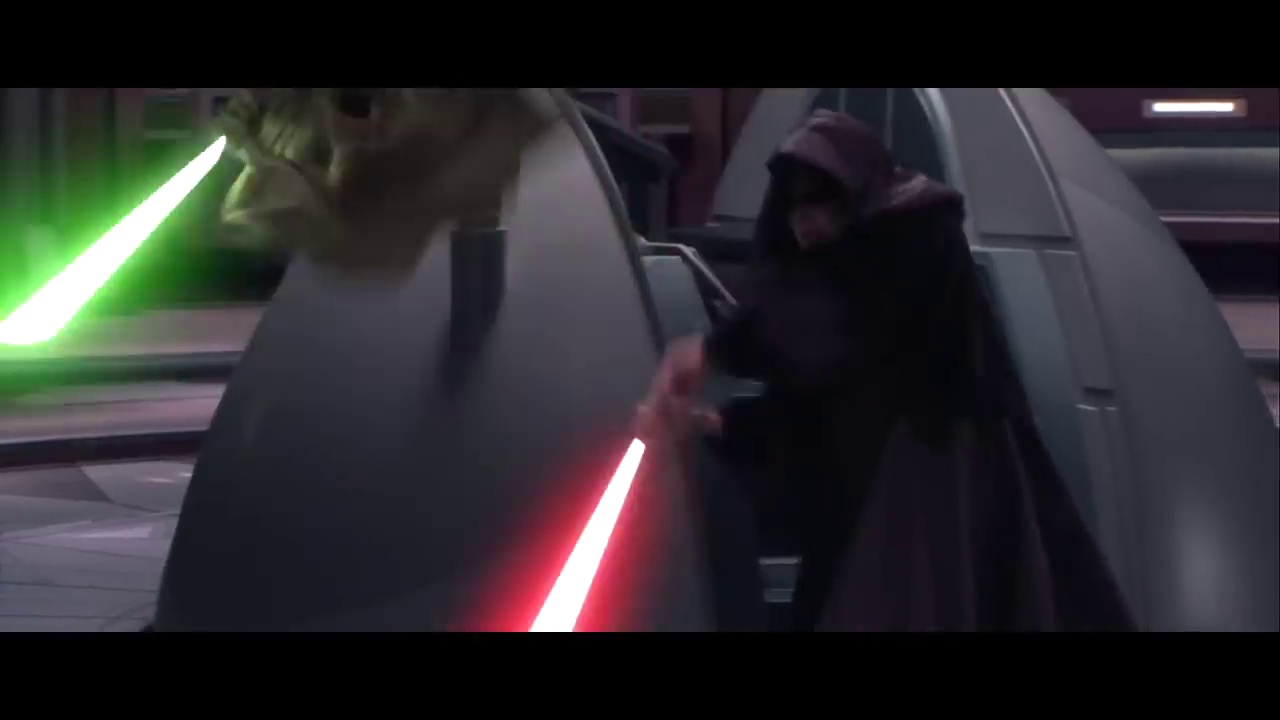lightsaber: (1, 118, 241, 357), (517, 372, 677, 638)
